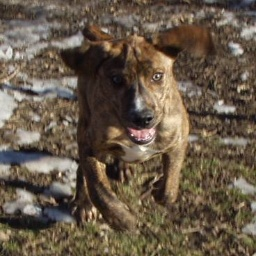dog: (62, 33, 194, 229)
